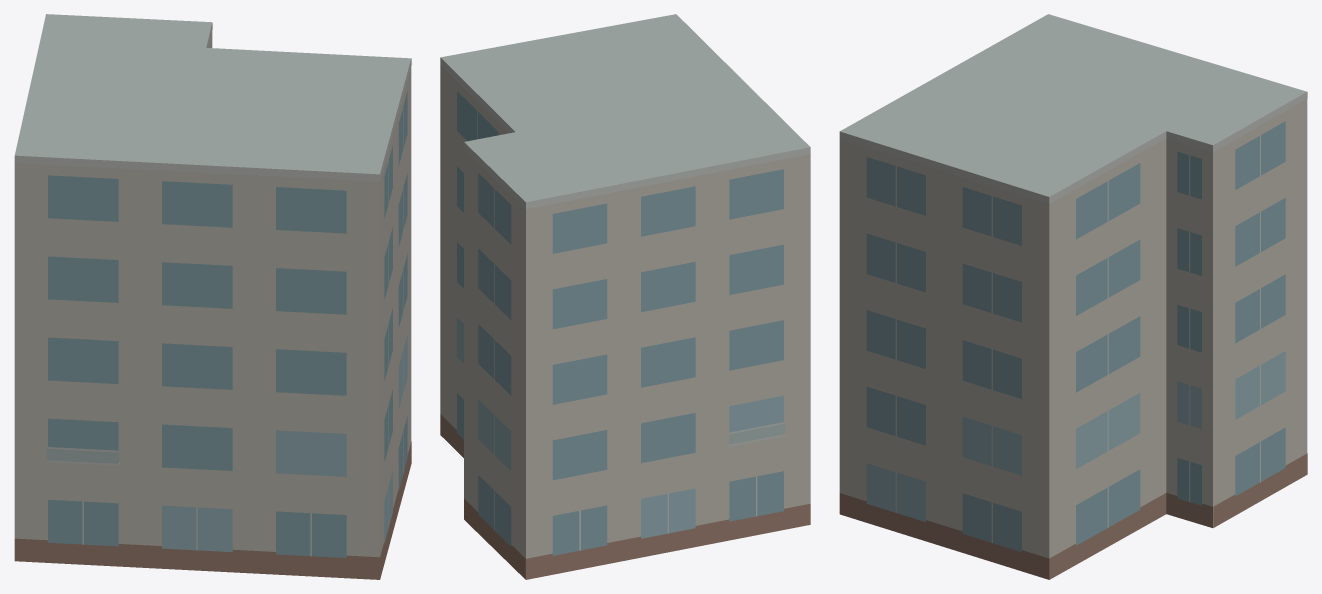
The model's file is survey-upis-32905614.glb.
The picture shows the model from 3 angles, left to right: view 1: azimuth 30°, elevation 25°; view 2: azimuth 150°, elevation 25°; view 3: azimuth 270°, elevation 25°; orthographic projection. The views are drawn at different scales.
Visible parts, largest first — view 1: survey-upis-32905614.tmp; view 2: survey-upis-32905614.tmp; view 3: survey-upis-32905614.tmp.
Boxes of the visible parts, x1=… form: survey-upis-32905614.tmp: x1=14, y1=14, x2=411, y2=579; survey-upis-32905614.tmp: x1=440, y1=14, x2=810, y2=579; survey-upis-32905614.tmp: x1=839, y1=14, x2=1307, y2=579.
Size of the model in its own units: 13.69 by 13.35 by 14.79.
